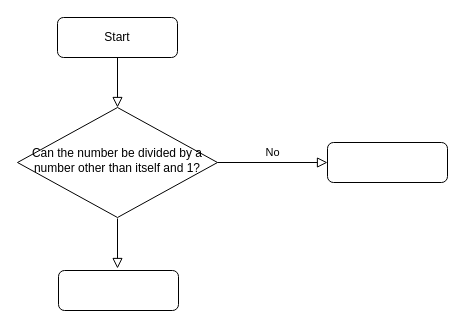
This 465x328 diagram has some shape labels left out. Each missing label, with the centre of its shape:
It is a prime number: the point at 387,162
It is not a prime number: the point at 118,290
